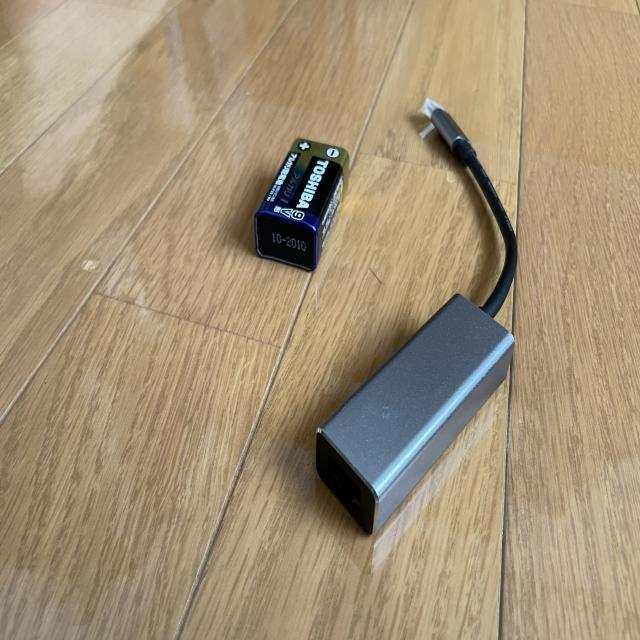9V: (255, 138, 349, 274)
